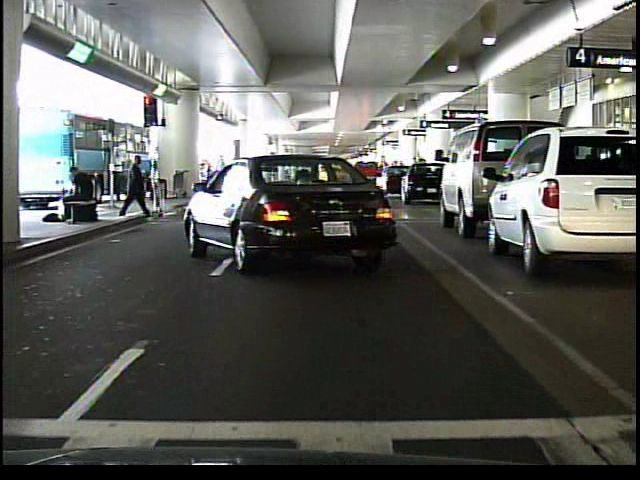person: (60, 163, 97, 229), (117, 149, 146, 216)
